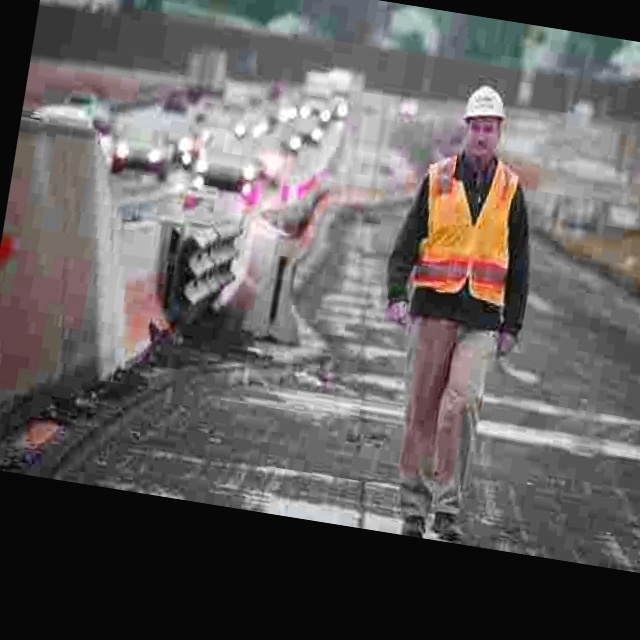Con_Casco: (455, 78, 510, 160)
Con_Chaleco: (407, 157, 528, 316)
